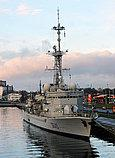MIL_Ship: (21, 10, 95, 137)
